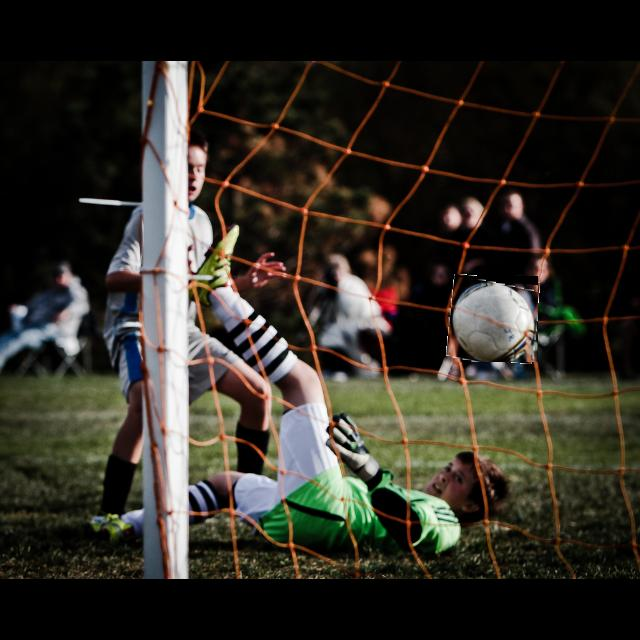Football: (448, 276, 538, 362)
